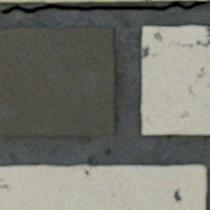brick: (0, 27, 115, 135), (0, 164, 205, 209), (141, 26, 209, 133), (0, 0, 172, 2)
crack: (1, 0, 208, 14)
